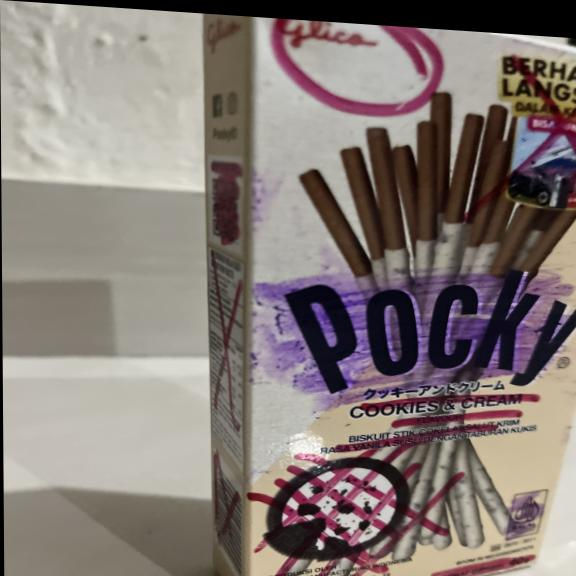Kertas: (202, 15, 576, 576)
